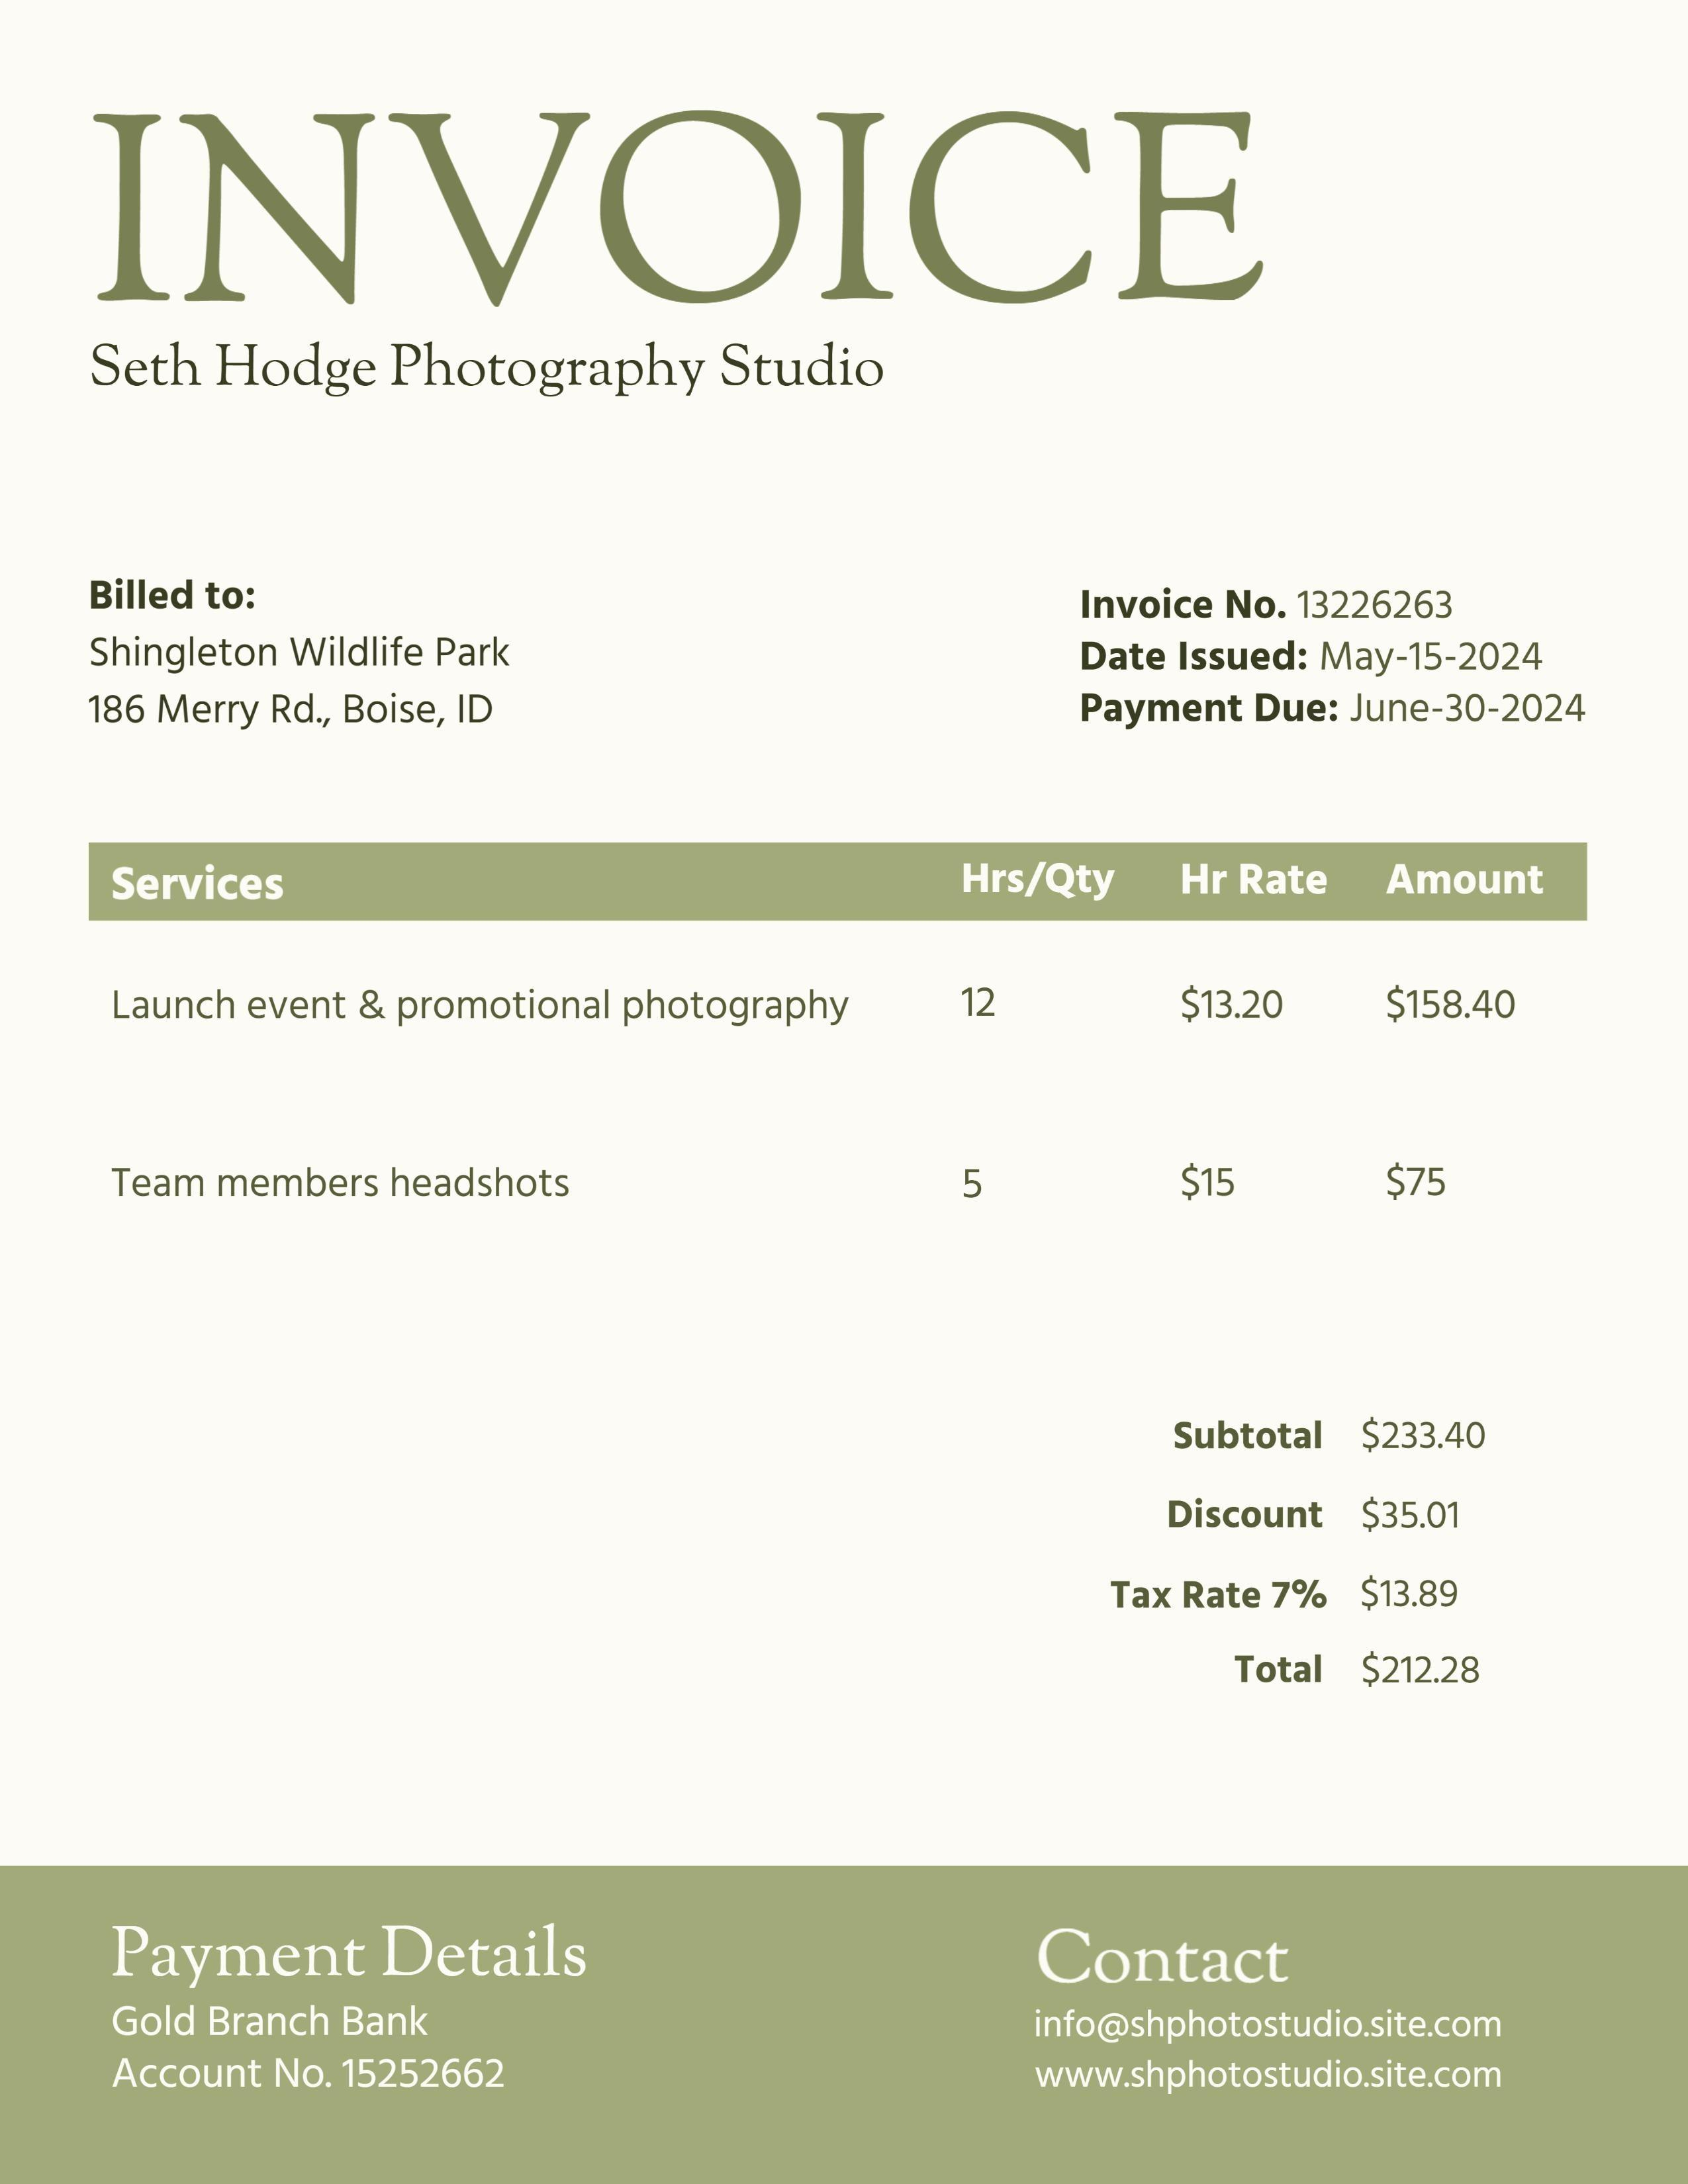ROI: (87, 844, 1589, 1237), (1099, 1406, 1520, 1718), (1066, 569, 1592, 752), (103, 1916, 603, 2104), (73, 569, 535, 757), (83, 331, 910, 427)
